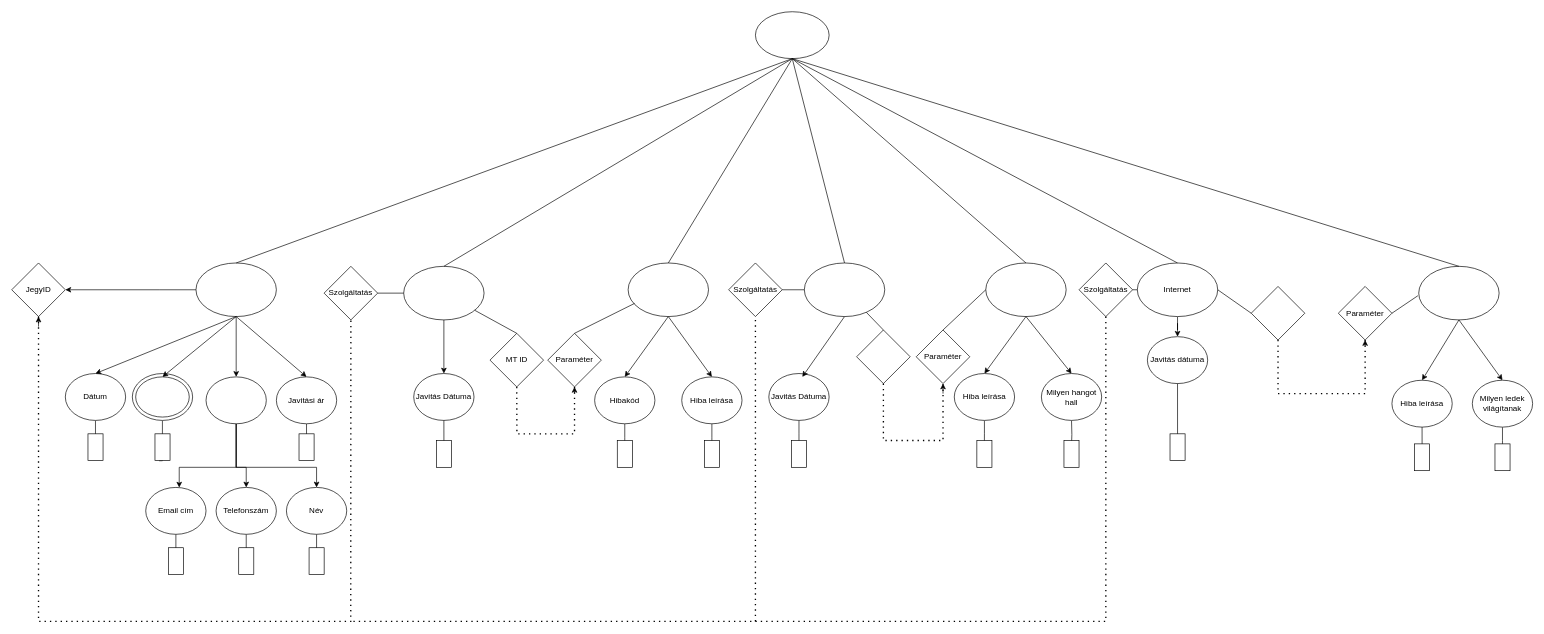
Some shapes in this 1544 by 634 pixel diagram are drawn without their labels. Here are the shapes that lost their labels. From the top down, the centre of each, then its label:
At (792,35): "Hibajegyrögzítő".
At (235,289): "Hibajegy".
At (443,293): "TV".
At (668,289): "TV hiba paraméter".
At (844,289): "Telefon".
At (1025,289): "Telefon hiba paraméter".
At (1458,293): "Internet hiba paraméter".
At (1278,313): "InternetID".
At (883,356): "Tel.Szám".
At (162,396): "Magenta 1 kedv.".
At (235,400): "Kapcs. adatok".
